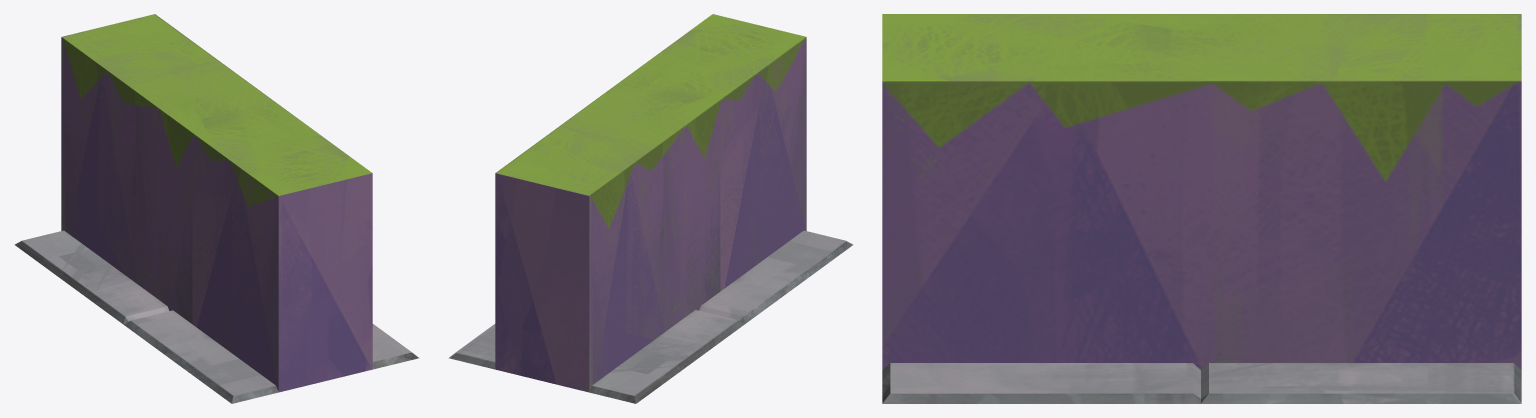
The model's file is wall_straight.fbx.
3 views of the same model, side by side, from view 1: azimuth 30°, elevation 25°; view 2: azimuth 150°, elevation 25°; view 3: azimuth 270°, elevation 25° (orthographic). The views are drawn at different scales.
Parts seen in each view (by area): view 1: wall_straight; view 2: wall_straight; view 3: wall_straight.
Boxes of the visible parts, x1,y1,x2,y2 form: wall_straight: [14, 14, 419, 403]; wall_straight: [448, 14, 853, 403]; wall_straight: [882, 14, 1521, 403].
Bounding box in the file's own units: 0.02 × 0.02 × 0.0401.
